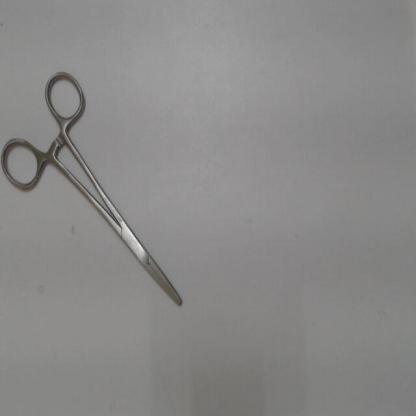Mayo Needle Holder: (4, 64, 195, 318)
